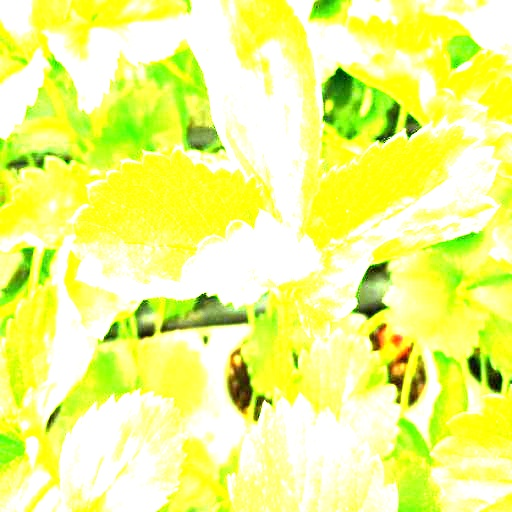Powdery Mildew Leaf: (290, 113, 501, 343), (69, 146, 326, 300), (183, 0, 324, 230)
